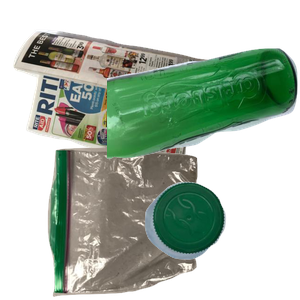glass: (107, 46, 300, 197)
paper: (11, 27, 213, 185)
plastic: (142, 179, 300, 300)
trash: (45, 144, 235, 300)
